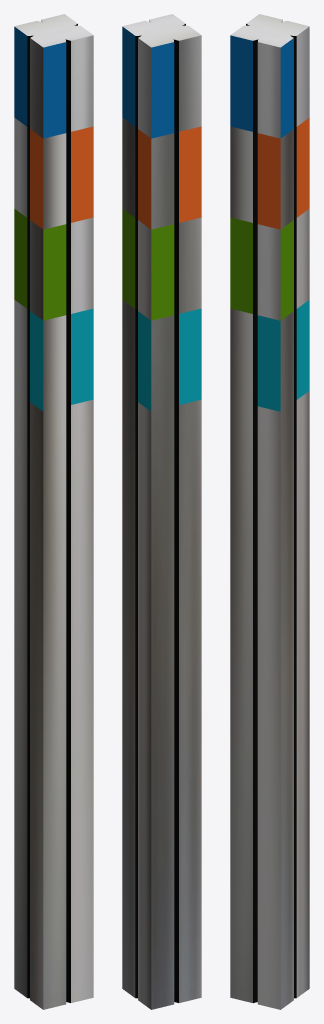
File: sign_A_001.FBX
3 views of the same model, side by side, from view 1: azimuth 30°, elevation 25°; view 2: azimuth 210°, elevation 25°; view 3: azimuth 330°, elevation 25° (orthographic).
Parts seen in each view (by area): view 1: signB_005; view 2: signB_005; view 3: signB_005.
Boxes of the visible parts, bbox=[...] form: signB_005: bbox=[14, 14, 93, 1009]; signB_005: bbox=[122, 14, 201, 1009]; signB_005: bbox=[230, 14, 309, 1009].
Size of the model in its own units: 13.71 by 250 by 13.71.
